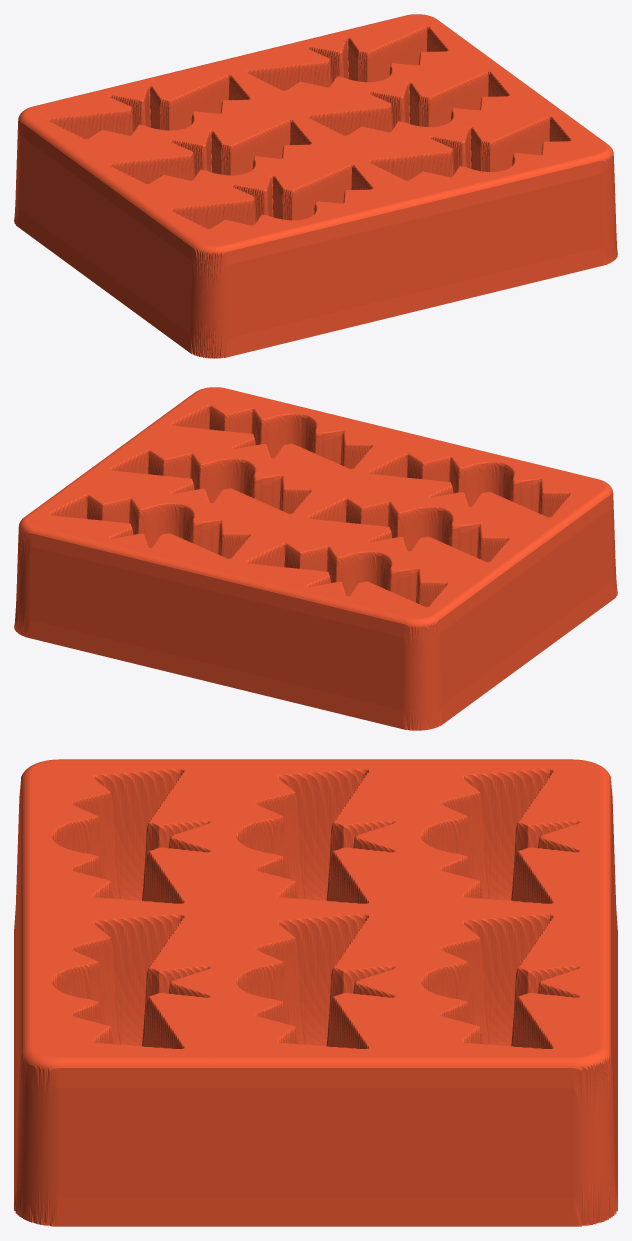
The model's file is mold.glb.
3 renders of one model, top to bottom at view 1: azimuth 30°, elevation 25°; view 2: azimuth 150°, elevation 25°; view 3: azimuth 270°, elevation 25°, orthographic. The views are drawn at different scales.
Parts seen in each view (by area): view 1: geometry_0; view 2: geometry_0; view 3: geometry_0.
Boxes of the visible parts, <box> form: geometry_0: <box>14,14,617,358</box>; geometry_0: <box>14,387,617,730</box>; geometry_0: <box>14,759,617,1226</box>.
Size of the model in its own units: 0.1492 by 0.036 by 0.122.
